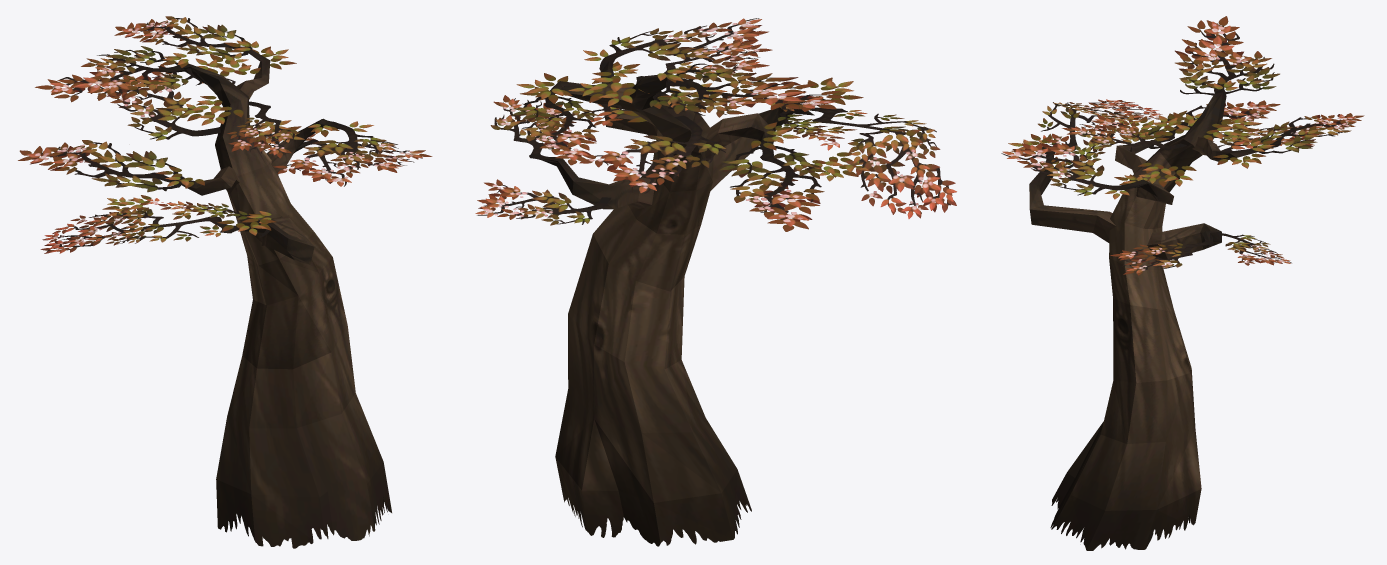
The model's file is cherrytree_01.fbx.
3 renders of one model, left to right at view 1: azimuth 30°, elevation 25°; view 2: azimuth 150°, elevation 25°; view 3: azimuth 270°, elevation 25°, orthographic. The views are drawn at different scales.
Visible parts, largest first — view 1: obj1.003; view 2: obj1.003; view 3: obj1.003.
Part boxes in pixels (bbox=[...]): obj1.003: bbox=[18, 16, 432, 548]; obj1.003: bbox=[475, 18, 956, 546]; obj1.003: bbox=[1001, 16, 1364, 550].
Bounding box in the file's own units: 7.51 × 7.78 × 6.58.
